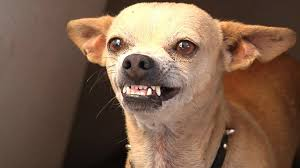chihuahua: (65, 1, 292, 168)
